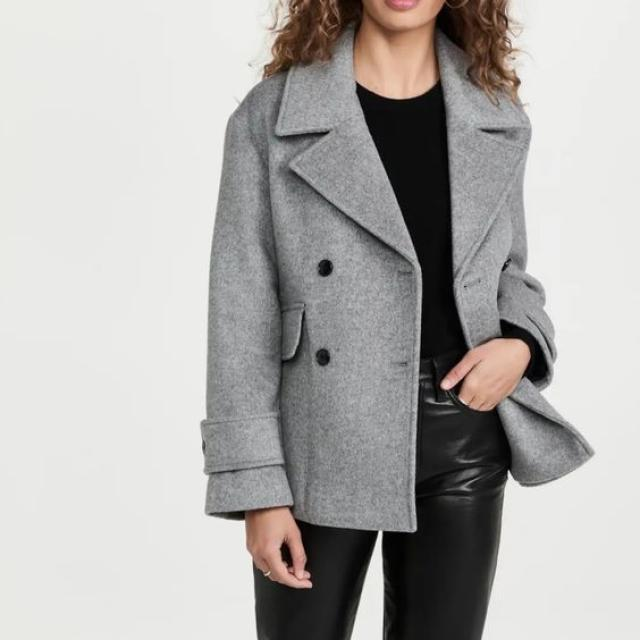Standing: (198, 0, 596, 640)
